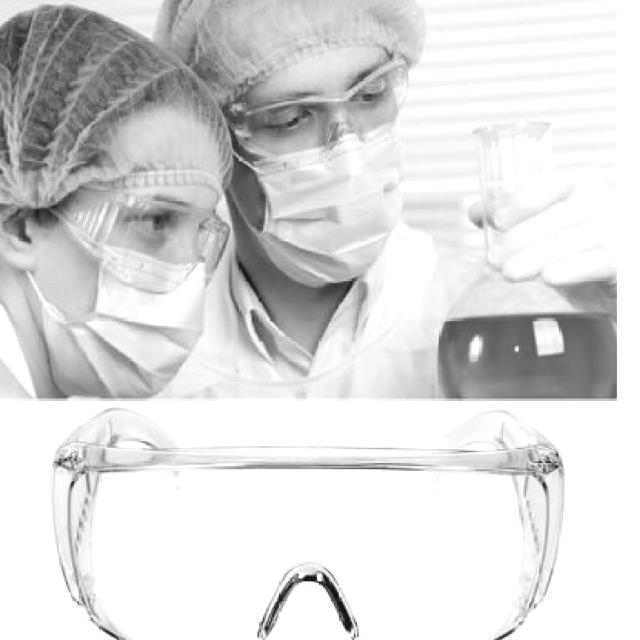face_mask: (246, 65, 414, 284), (43, 190, 217, 396)
glasses: (47, 407, 576, 640), (225, 47, 406, 168), (54, 180, 231, 292)
hand_glove: (455, 161, 620, 305)
